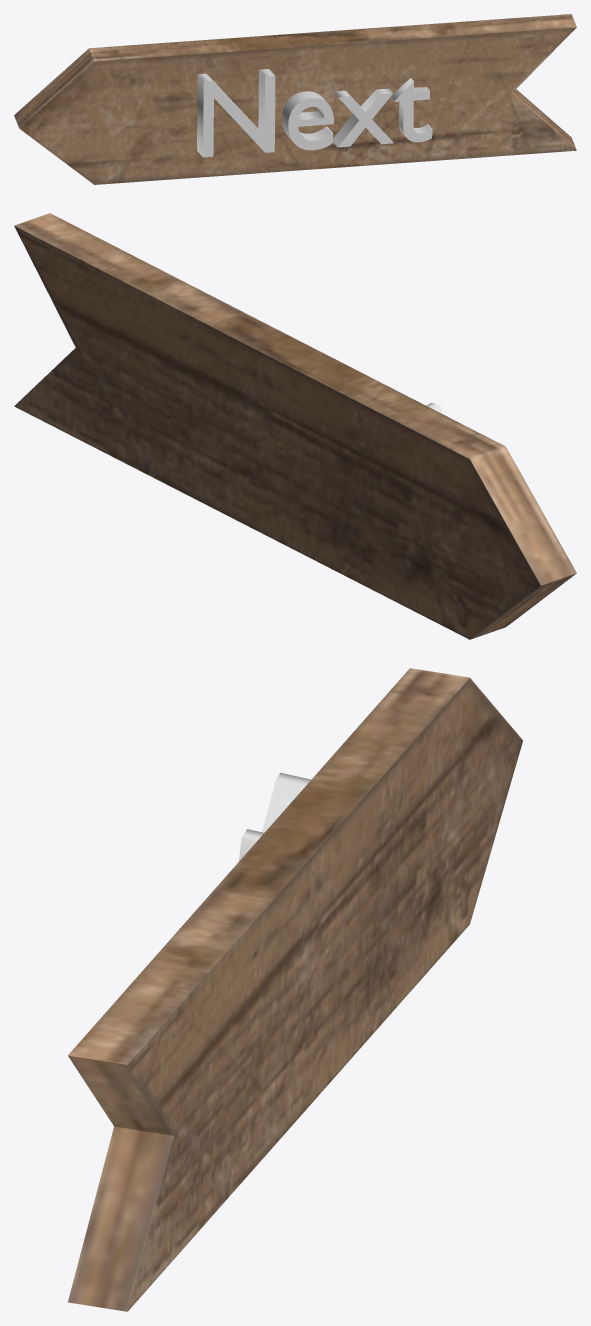
File: sign2_next.glb
3 views of the same model, one above another, from view 1: azimuth 30°, elevation 25°; view 2: azimuth 150°, elevation 25°; view 3: azimuth 270°, elevation 25° (orthographic). The views are drawn at different scales.
Visible parts, largest first — view 1: defaultMaterial.037, Text.015; view 2: defaultMaterial.037; view 3: defaultMaterial.037, Text.015.
Part boxes in pixels (left/top/right/bottom): defaultMaterial.037: left=14, top=14, right=576, bottom=184; Text.015: left=197, top=69, right=432, bottom=157; defaultMaterial.037: left=14, top=213, right=576, bottom=639; defaultMaterial.037: left=68, top=668, right=522, bottom=1311; Text.015: left=238, top=772, right=311, bottom=861.
Size of the model in its own units: 1.02 by 0.2566 by 0.4291.
Materials: 1 (1 with a texture image).
